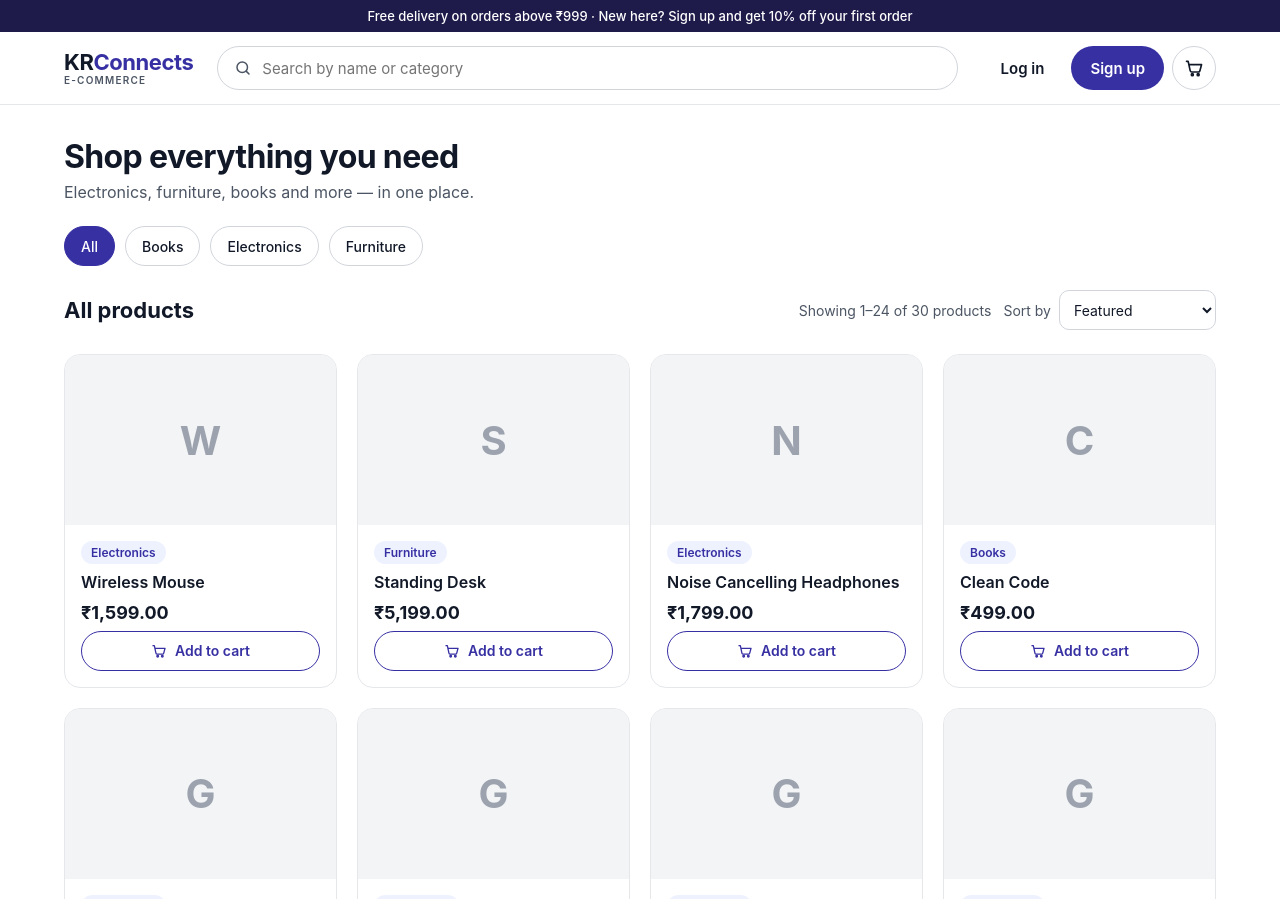
Sign up and log in (Auth API) › signs up a new user and shows the user key from the API
The image size is (1280, 899).
Expected: the link "Wireless Mouse" is shown, [81,572,205,592]
Click the button "Sign up" at (1118, 68), box [1071,46,1164,90]
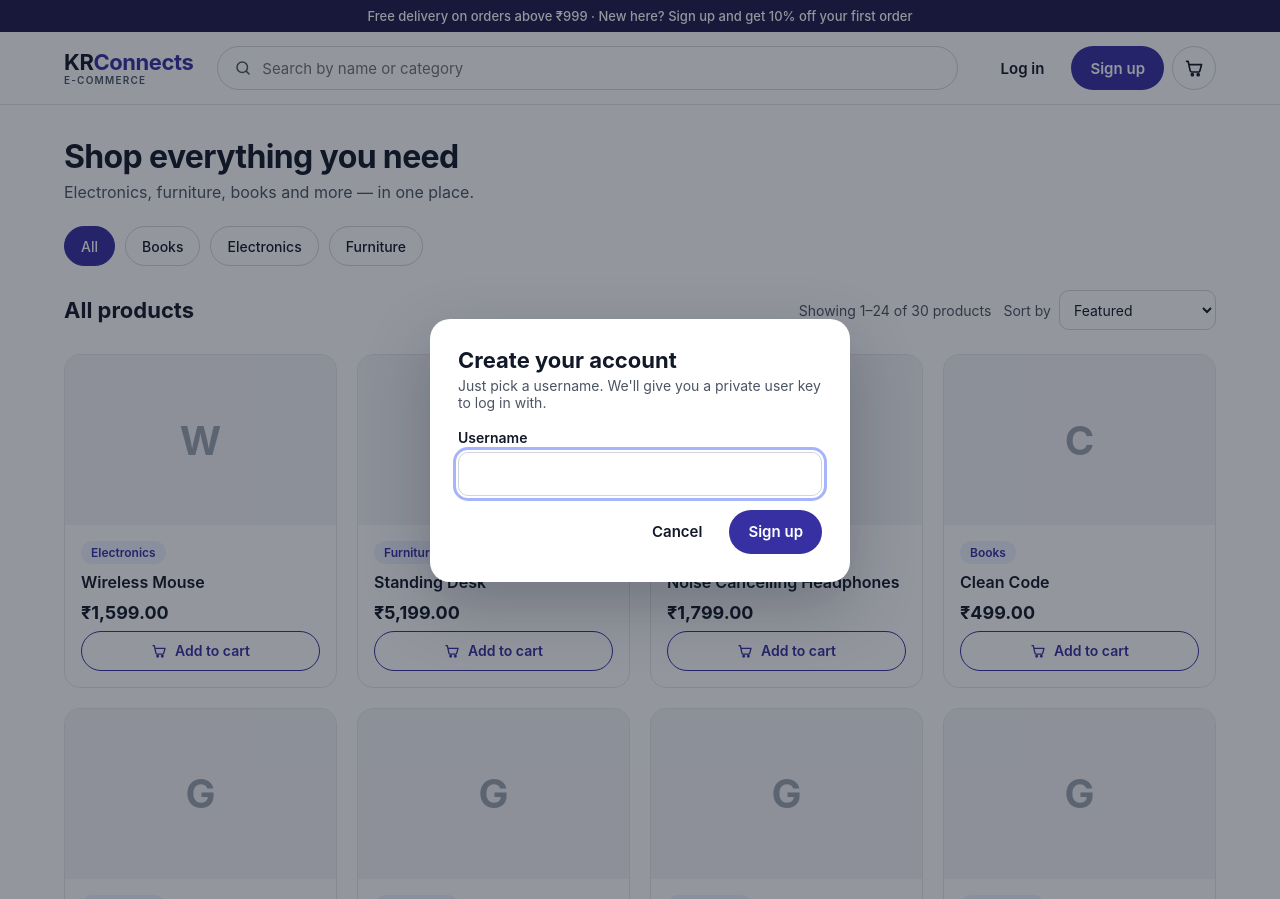
Type "krishna" into the field labelled "Username" at (640, 474), box [458,452,822,496]
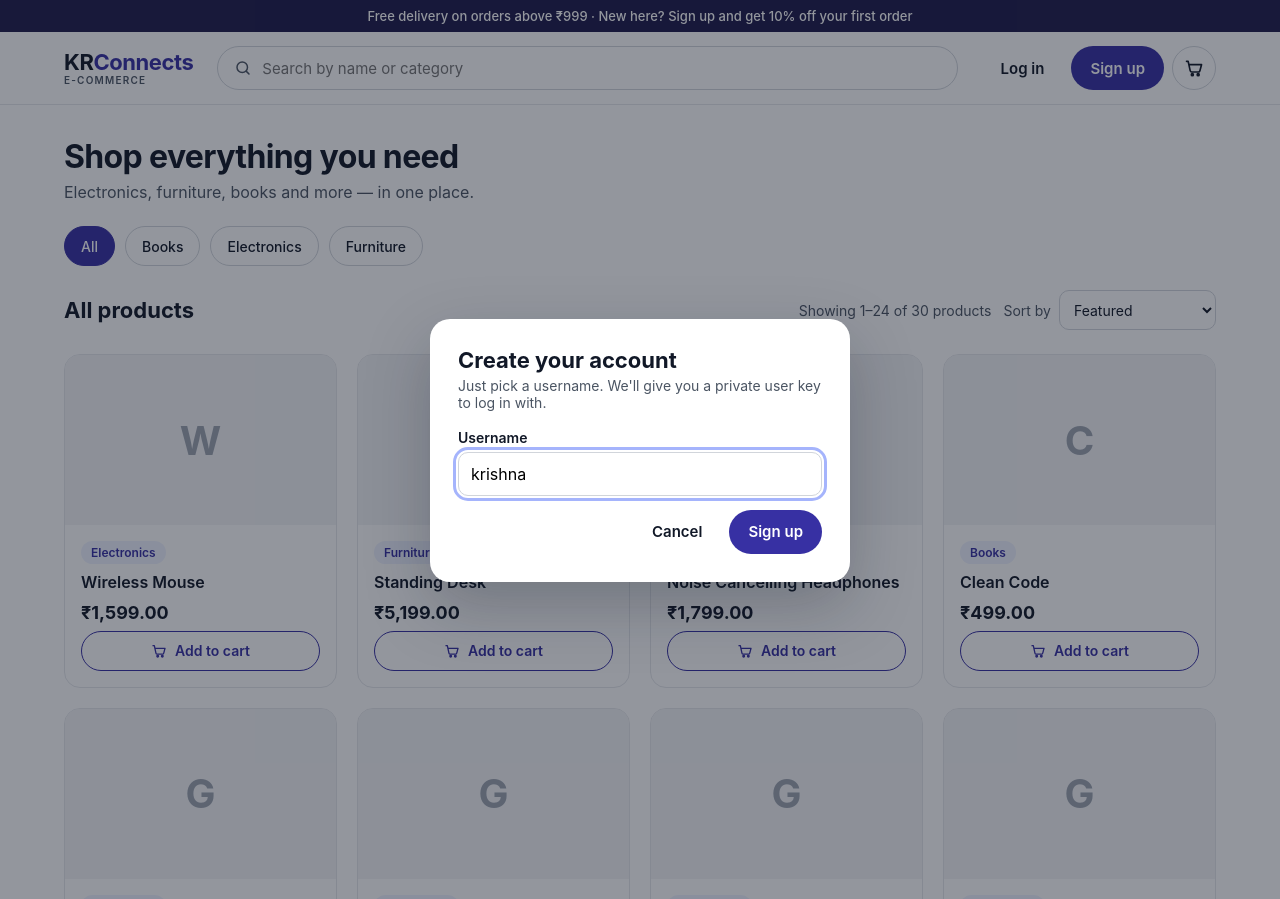
Click the button "Sign up" at (776, 532), box [729,510,822,554]
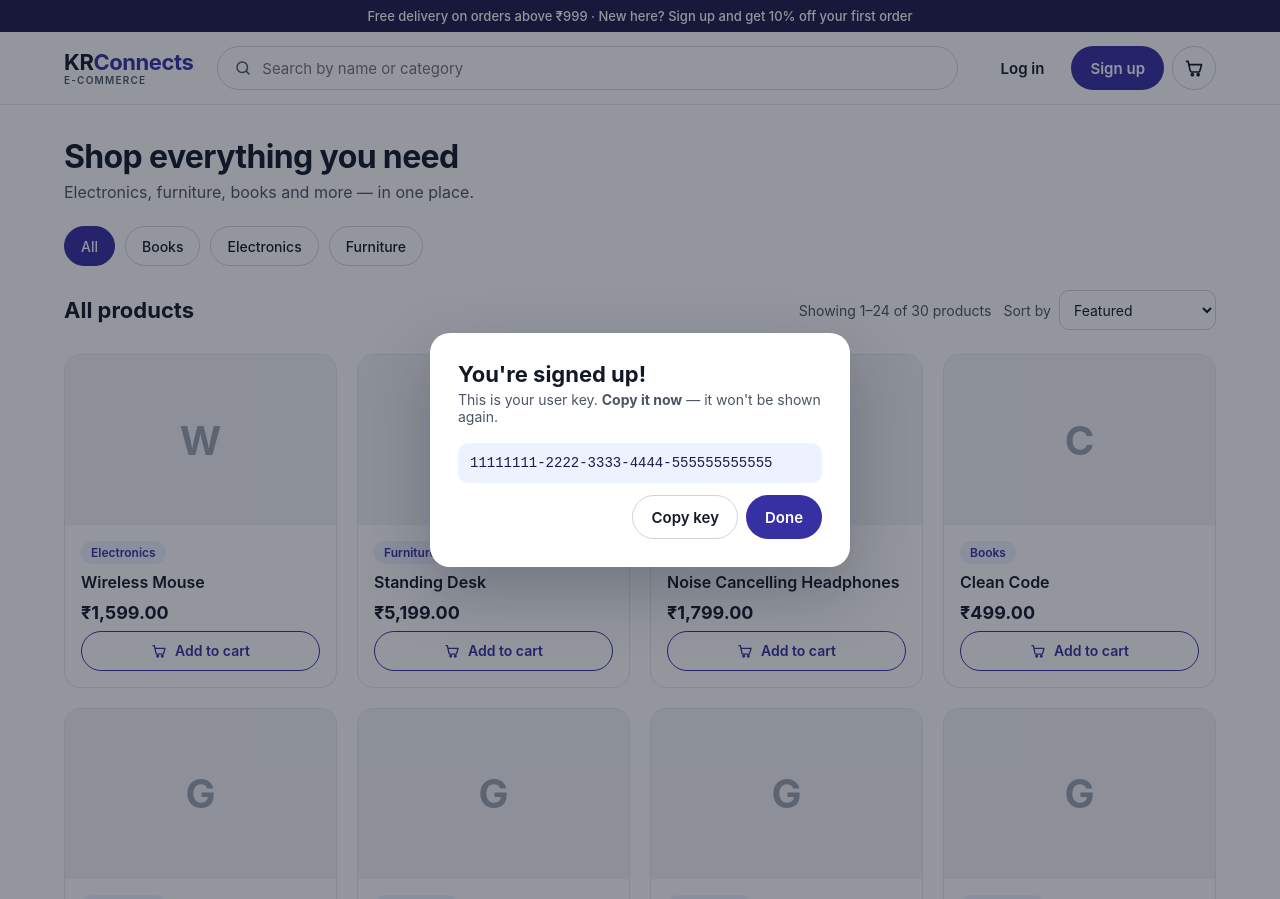
Expected: the text "11111111-2222-3333-4444-555555555555" is shown, [470,455,772,471]
